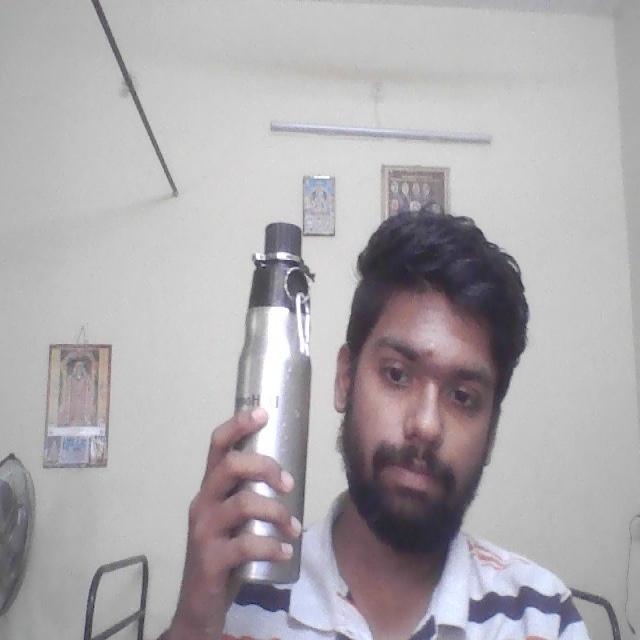Drinking: (219, 213, 321, 616)
